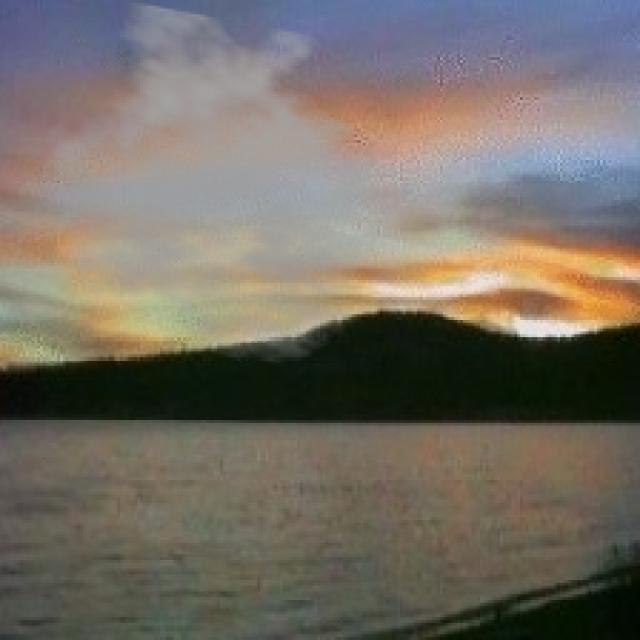smoke: (23, 0, 420, 366)
